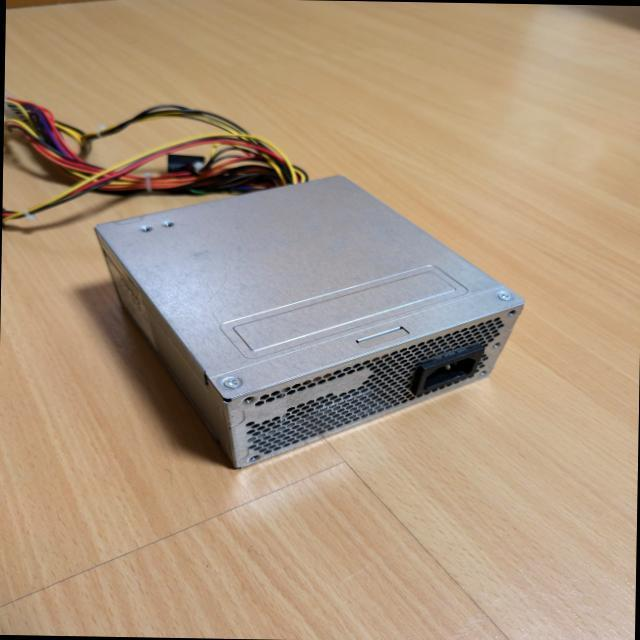PSU: (90, 170, 528, 474)
